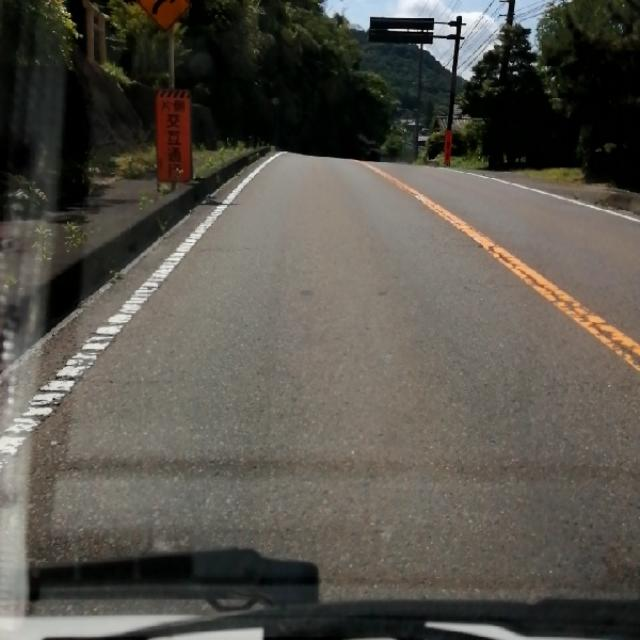pothole: (66, 300, 112, 346)
